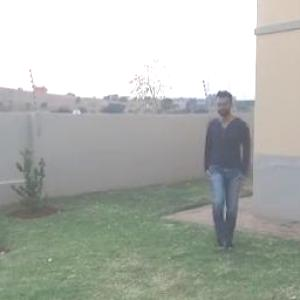follow: (203, 81, 266, 268)
